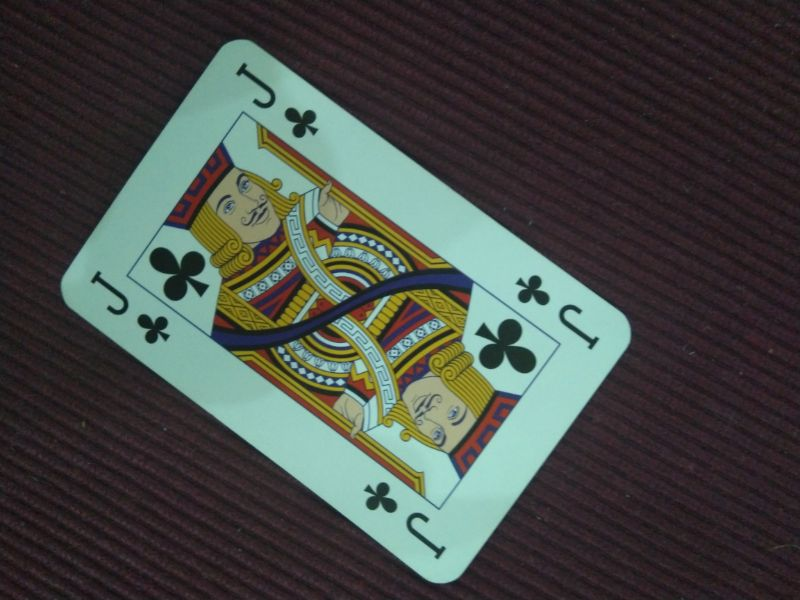Jc: (363, 476, 451, 561), (514, 270, 604, 352), (233, 58, 320, 140), (88, 268, 173, 345)
